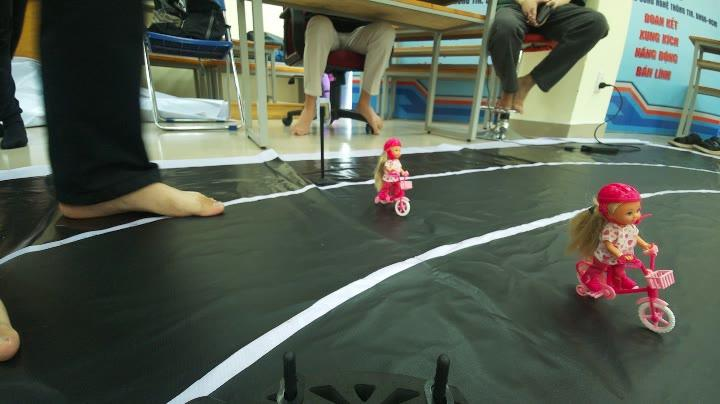pedestrian: (556, 176, 686, 344), (360, 130, 421, 218)
